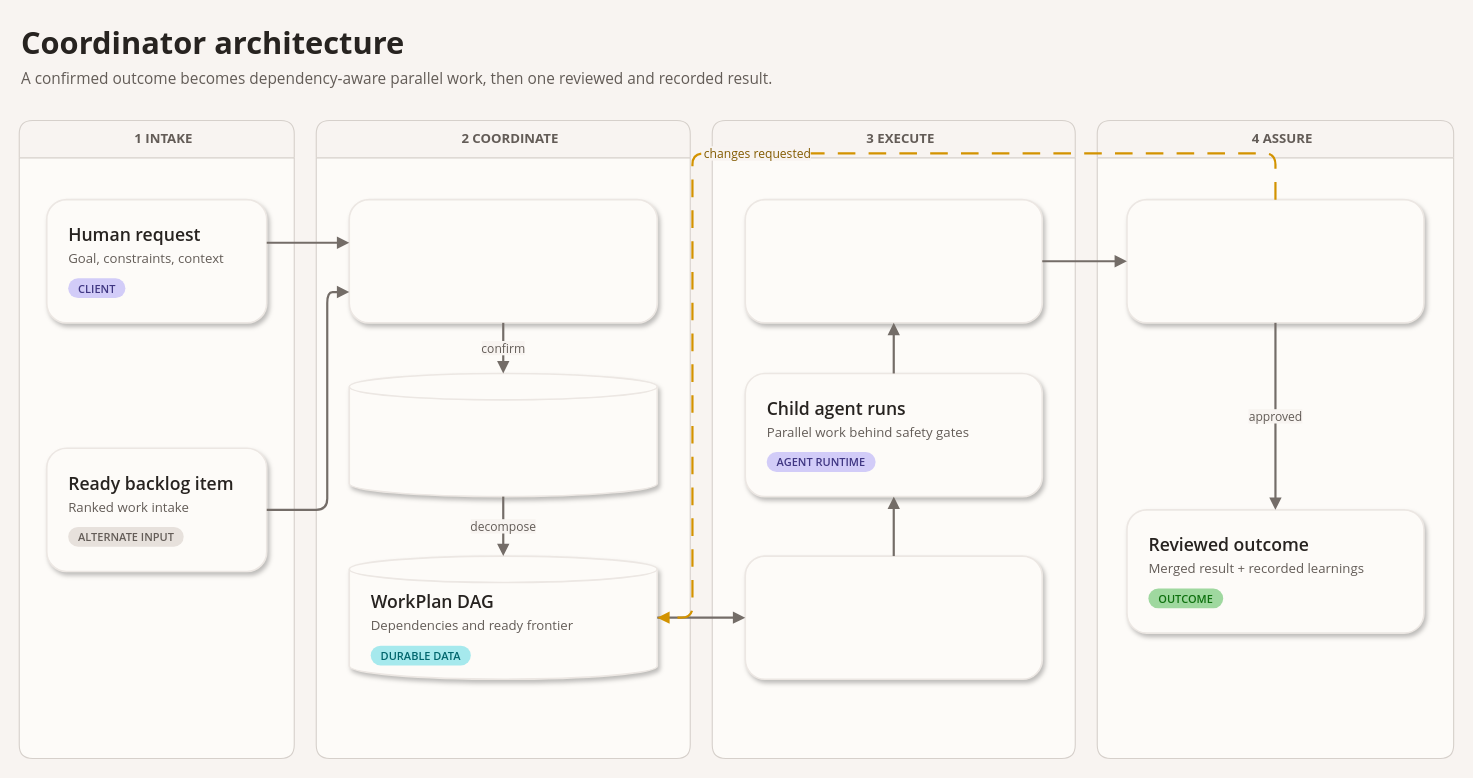
Some shapes in this 1473 by 778 pixel diagram are drawn without their labels. Here are the shapes that lost their labels. From the top down, the centre of each, then its label:
At point (504, 262): "Coordinator Understand, confirm, decompose SERVICE".
At point (894, 262): "Collective assembly Integrate usable child outputs STEP".
At point (1276, 262): "Review and merge One aggregate diff and decision ASSURANCE".
At point (504, 436): "OutcomeSpec Success contract confirmed once DURABLE DATA".
At point (894, 618): "Dispatch ready tasks Only dependencies-ready work STEP".
